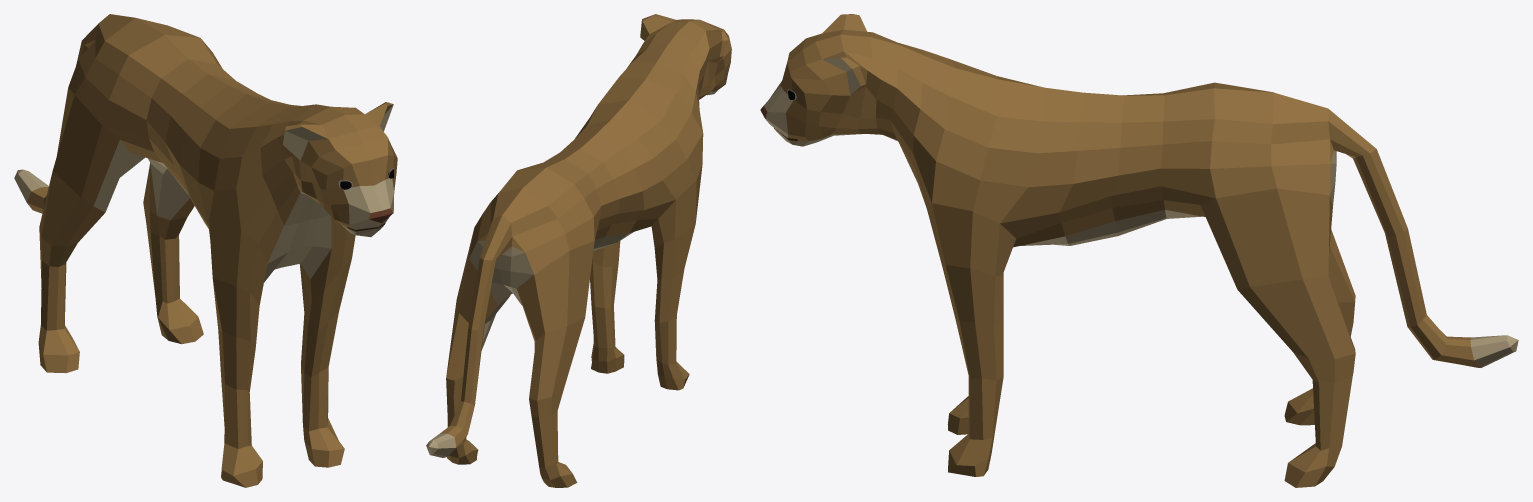
The model's file is Cheetah (1).fbx.
3 views of the same model, side by side, from view 1: azimuth 30°, elevation 25°; view 2: azimuth 150°, elevation 25°; view 3: azimuth 270°, elevation 25° (orthographic). The views are drawn at different scales.
Visible parts, largest first — view 1: Cheetah; view 2: Cheetah; view 3: Cheetah.
Part boxes in pixels (bbox=[...]): Cheetah: bbox=[14, 14, 397, 487]; Cheetah: bbox=[426, 14, 731, 487]; Cheetah: bbox=[760, 14, 1518, 487].
Size of the model in its own units: 45.1 by 110 by 182.
Materials: 1 (1 with a texture image).
